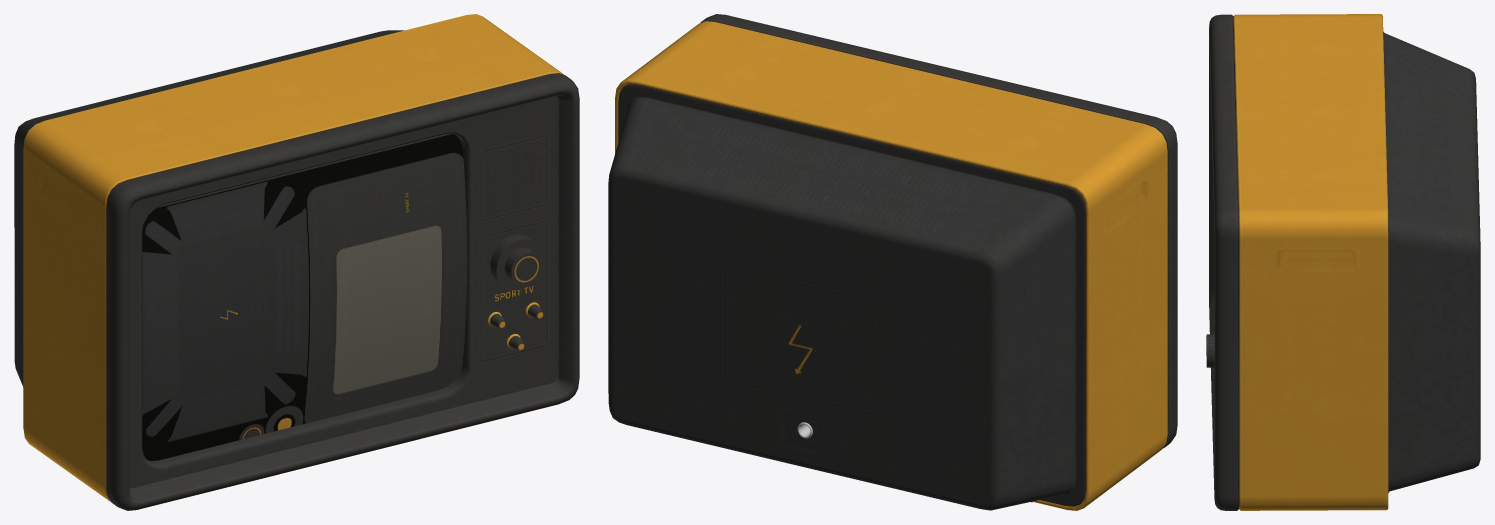
3 views of the same model, side by side, from view 1: azimuth 30°, elevation 25°; view 2: azimuth 150°, elevation 25°; view 3: azimuth 270°, elevation 25° (orthographic). The views are drawn at different scales.
Parts seen in each view (by area): view 1: TV.001, TV.003; view 2: TV.001; view 3: TV.001.
Part boxes in pixels (x1,y1,x2,y2): TV.001: [14, 14, 579, 510]; TV.003: [142, 134, 467, 460]; TV.001: [608, 14, 1177, 510]; TV.001: [1206, 14, 1480, 510].
Bounding box in the file's own units: 0.5849 × 0.4012 × 0.3206.
1 material, 1 textured.
